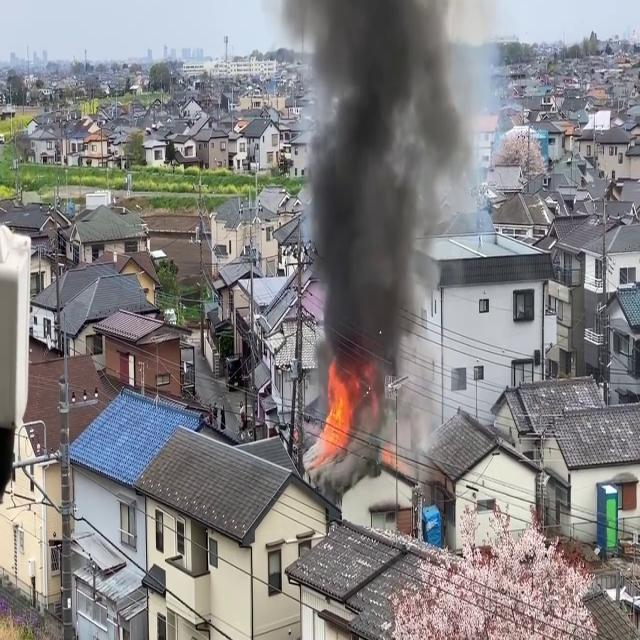Fire: (310, 358, 356, 466)
Smoke: (291, 0, 471, 455)
